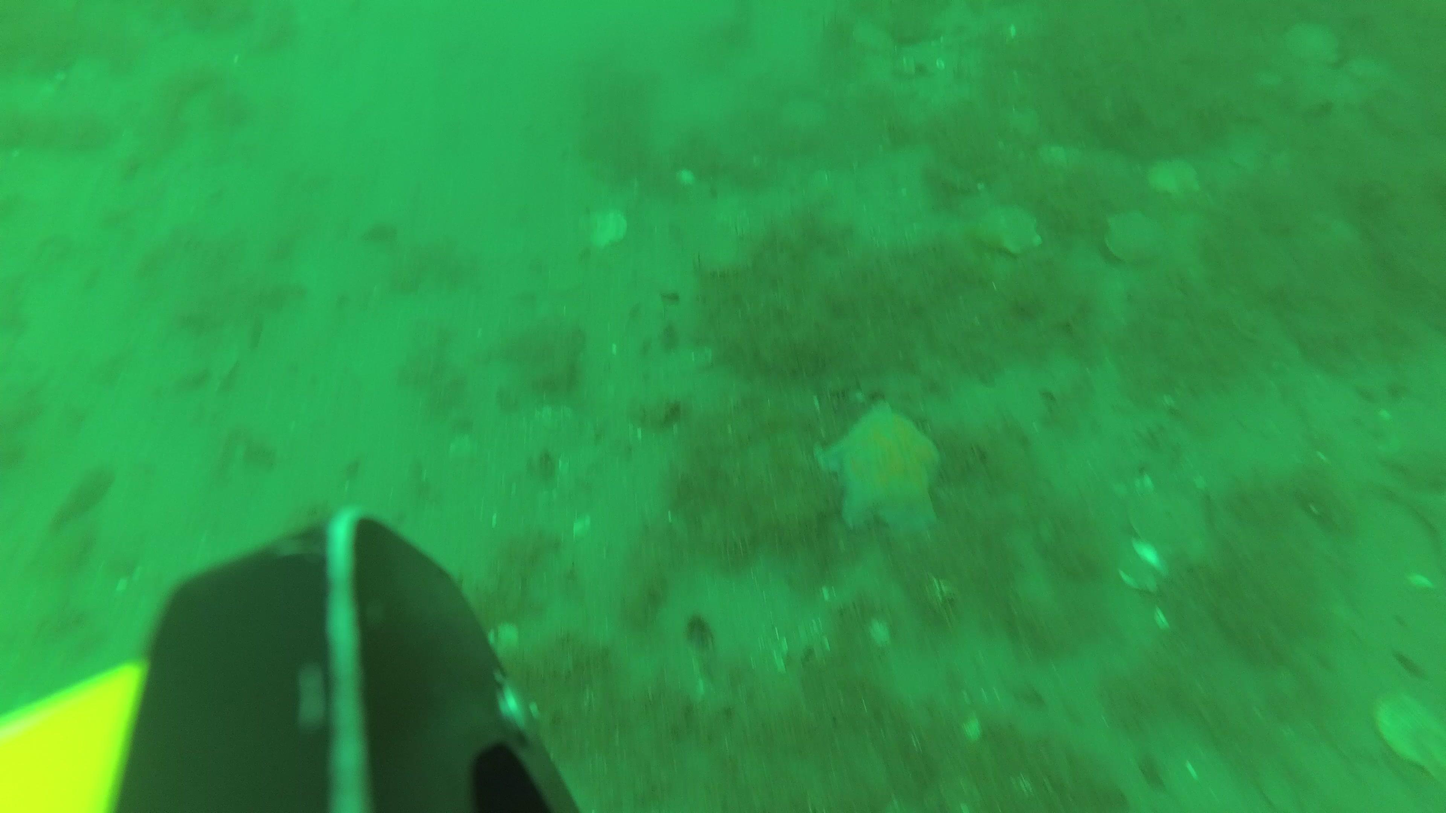holothurian: (815, 398, 944, 535)
scallop: (1370, 687, 1446, 786), (1123, 486, 1195, 560), (969, 204, 1046, 257), (1100, 209, 1168, 265), (1284, 14, 1345, 71), (1150, 154, 1202, 199), (581, 208, 630, 253)
